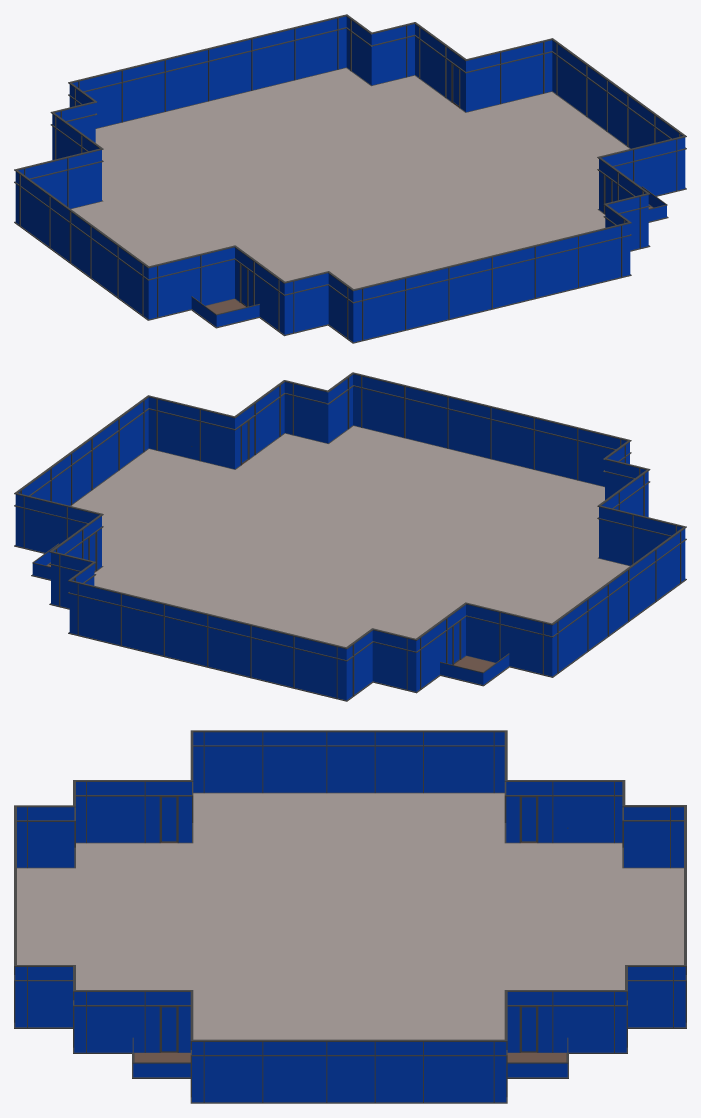
File: floor25.glb
3 views of the same model, one above another, from view 1: azimuth 30°, elevation 25°; view 2: azimuth 150°, elevation 25°; view 3: azimuth 270°, elevation 25° (orthographic). The views are drawn at different scales.
Visible parts, largest first — view 1: Floor plans 25TH (1), Floor plans 25TH Window Glass, Floor plans 25TH Window Joinery; view 2: Floor plans 25TH (1), Floor plans 25TH Window Glass, Floor plans 25TH Window Joinery; view 3: Floor plans 25TH (1), Floor plans 25TH Window Glass, Floor plans 25TH Window Joinery.
Part boxes in pixels (x1,y1,x2,y2): Floor plans 25TH (1): (71, 68, 668, 328); Floor plans 25TH Window Glass: (15, 16, 685, 342); Floor plans 25TH Window Joinery: (14, 14, 686, 343); Floor plans 25TH (1): (31, 426, 629, 686); Floor plans 25TH Window Glass: (15, 374, 685, 700); Floor plans 25TH Window Joinery: (14, 372, 686, 701); Floor plans 25TH (1): (17, 793, 683, 1078); Floor plans 25TH Window Glass: (15, 732, 685, 1102); Floor plans 25TH Window Joinery: (14, 730, 686, 1103).
Bounding box in the file's own units: 38.04 × 3.59 × 34.82.
